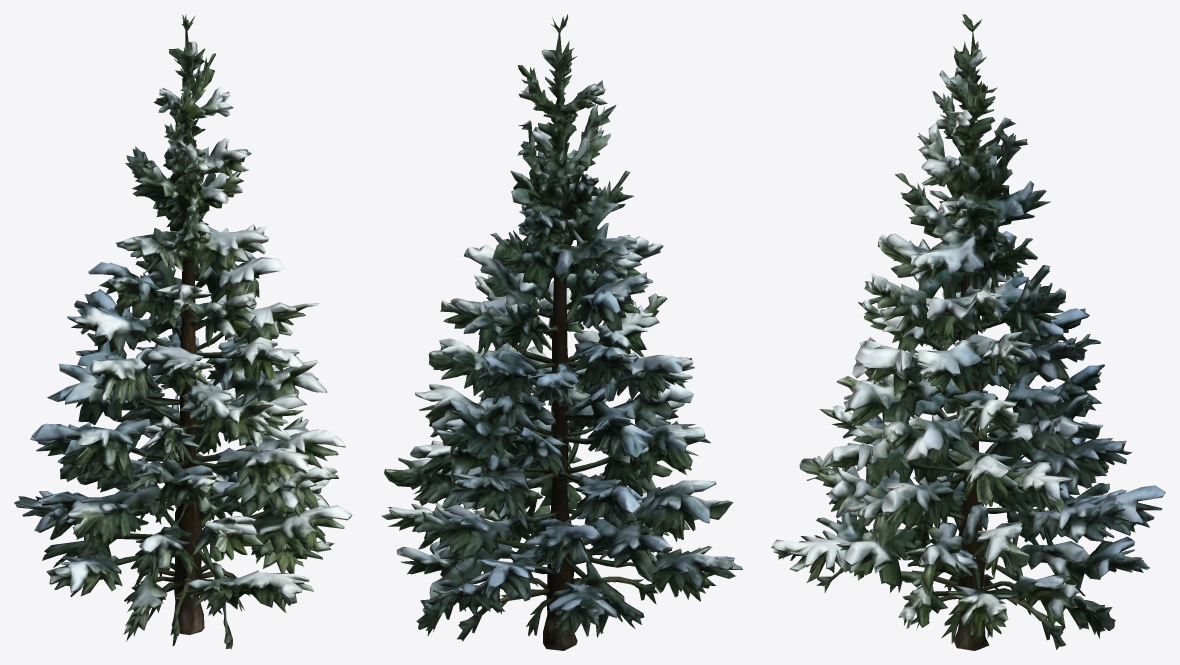
File: pine-high.glb
3 views of the same model, side by side, from view 1: azimuth 30°, elevation 25°; view 2: azimuth 150°, elevation 25°; view 3: azimuth 270°, elevation 25° (orthographic). The views are drawn at different scales.
Bounding box in the file's own units: 0.5358 × 0.9976 × 0.5667.
Materials: 1 (1 with a texture image).
